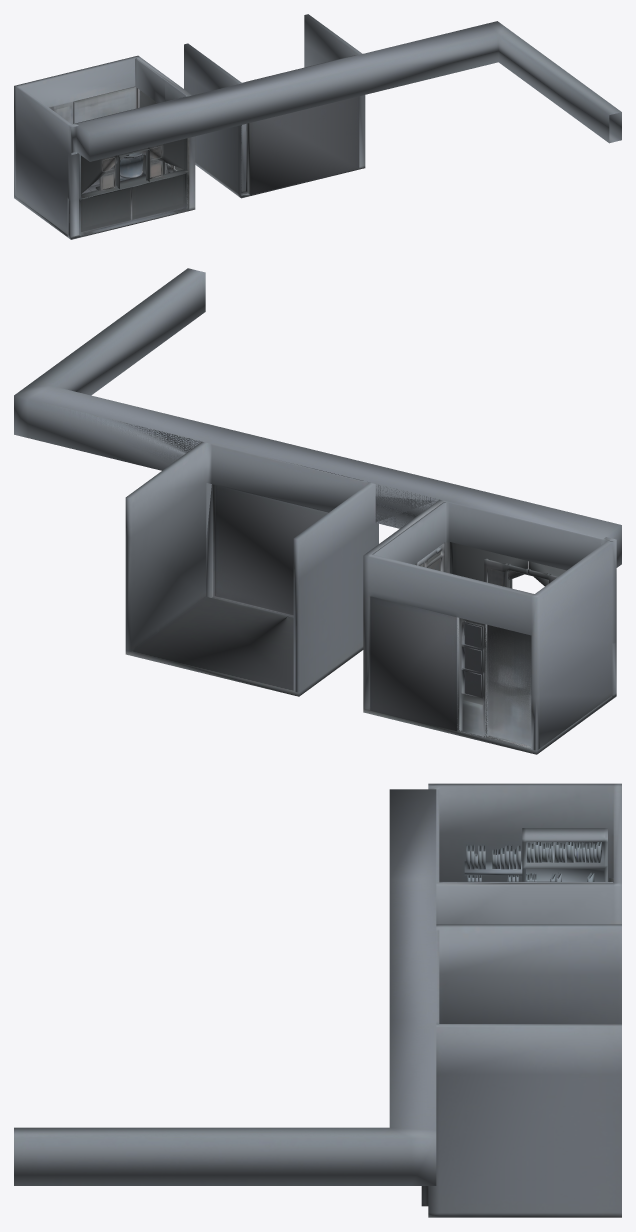
File: platform.glb
3 renders of one model, top to bottom at view 1: azimuth 30°, elevation 25°; view 2: azimuth 150°, elevation 25°; view 3: azimuth 270°, elevation 25°, orthographic. The views are drawn at different scales.
Parts seen in each view (by area): view 1: tripo_node_15cf372a-e896-4476-a42e-064f74876ca8; view 2: tripo_node_15cf372a-e896-4476-a42e-064f74876ca8; view 3: tripo_node_15cf372a-e896-4476-a42e-064f74876ca8.
Boxes of the visible parts, box(x1,y1,x2,y2) form: tripo_node_15cf372a-e896-4476-a42e-064f74876ca8: box(14, 14, 621, 239); tripo_node_15cf372a-e896-4476-a42e-064f74876ca8: box(14, 268, 621, 754); tripo_node_15cf372a-e896-4476-a42e-064f74876ca8: box(14, 783, 621, 1217).
Size of the model in its own units: 0.9995 by 0.2505 by 0.7231.
Materials: 1 (1 with a texture image).
